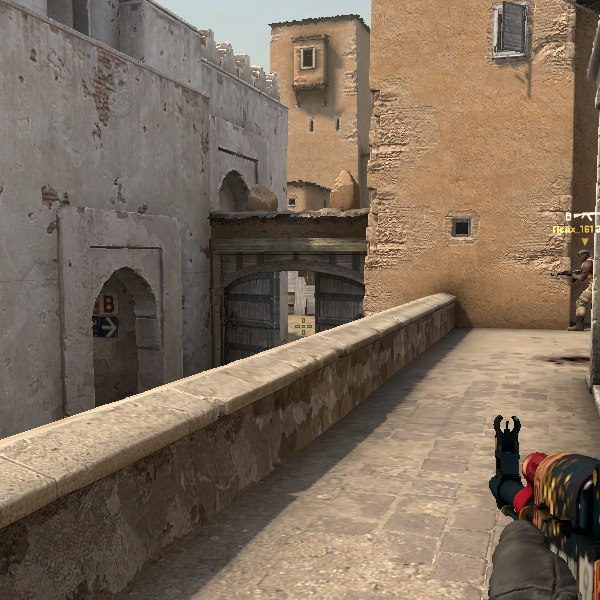t_body: (562, 248, 598, 333)
t_head: (577, 249, 589, 265)
